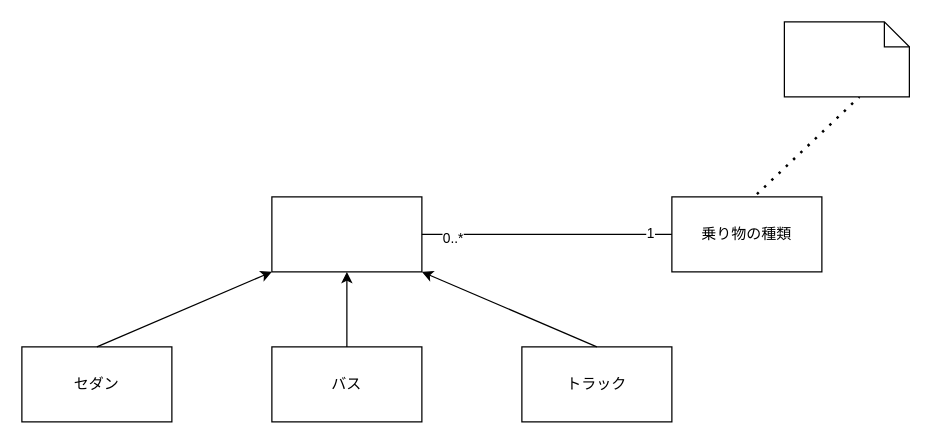
Image size: 931x444. Some labels were removed from this diagram. Here are the shapes that lost their labels. From the top down, the centre of each, then its label:
At (x=846, y=59): "パワータイプ".
At (x=346, y=234): "乗り物".
